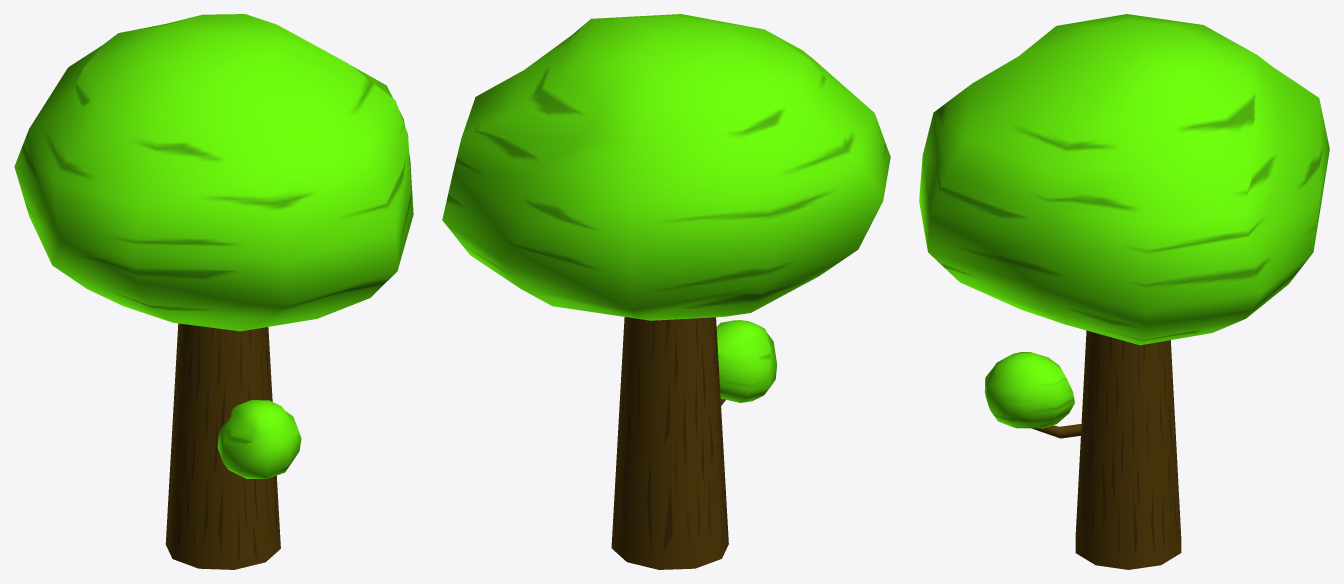
File: Arbol2_v1.fbx
The picture shows the model from 3 angles, left to right: view 1: azimuth 30°, elevation 25°; view 2: azimuth 150°, elevation 25°; view 3: azimuth 270°, elevation 25°; orthographic projection. The views are drawn at different scales.
Parts seen in each view (by area): view 1: polySurface20; view 2: polySurface20; view 3: polySurface20.
Part boxes in pixels (bbox=[...]): polySurface20: bbox=[14, 14, 413, 569]; polySurface20: bbox=[442, 14, 890, 569]; polySurface20: bbox=[919, 14, 1329, 569].
Size of the model in its own units: 6.29 by 7.93 by 5.9.
